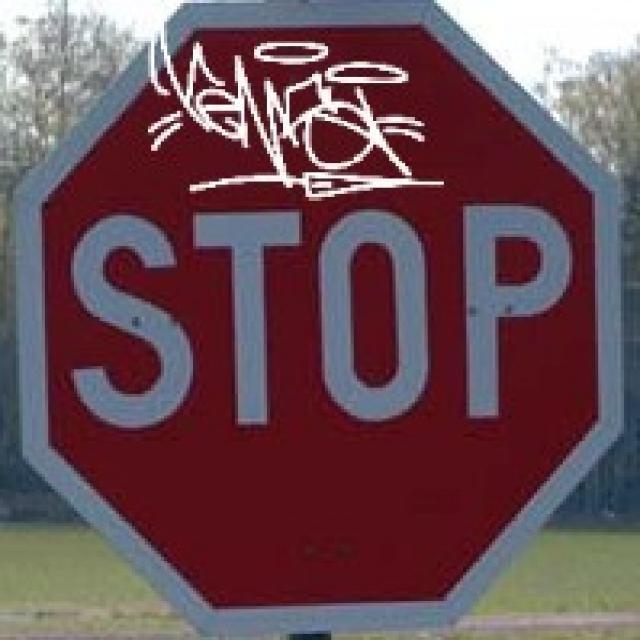Stop-Sign: (53, 30, 586, 597)
